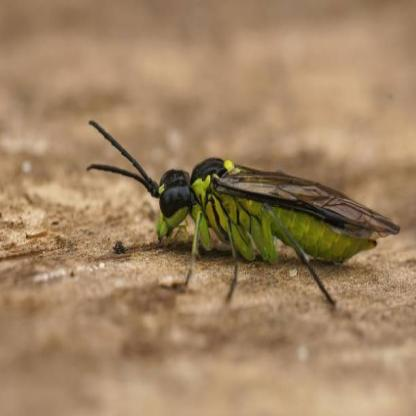sawfly: (85, 120, 402, 310)
